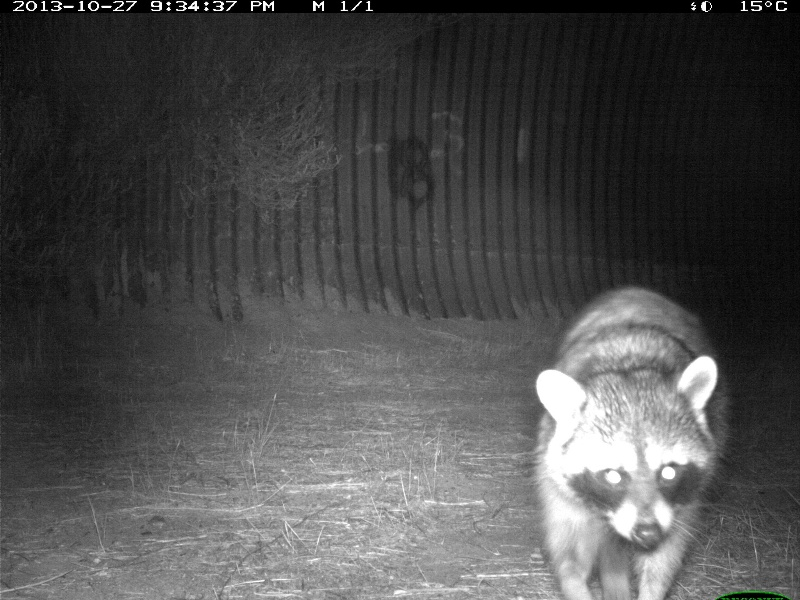raccoon: (531, 284, 733, 599)
